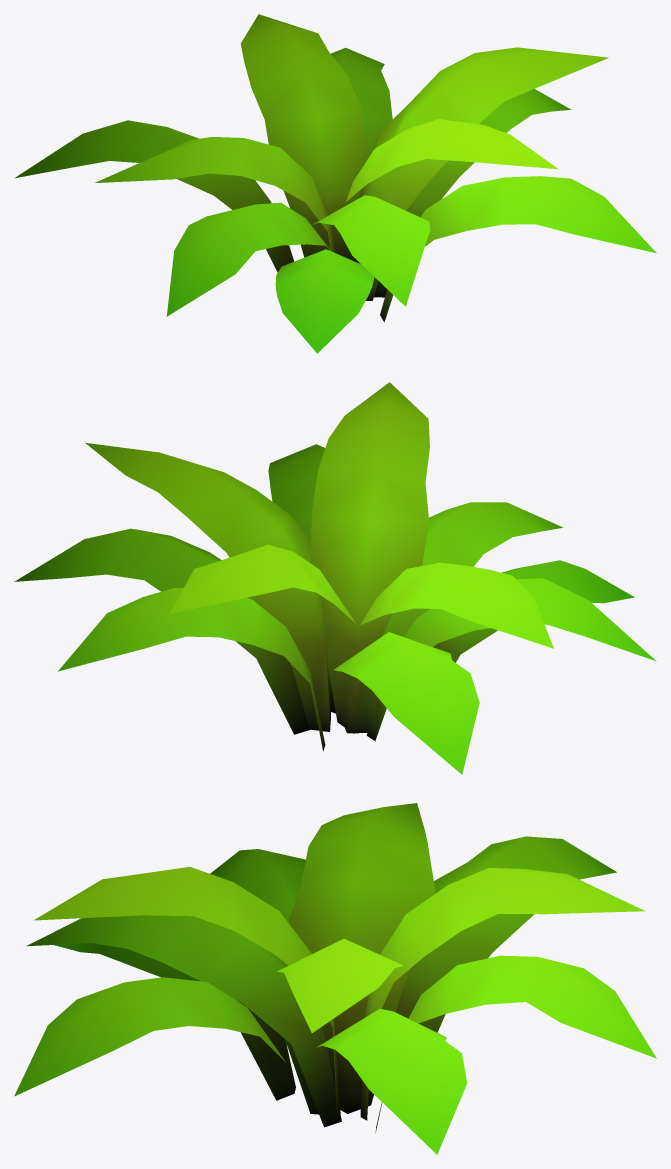
Rendered from trp_fern1.glb.
3 views of the same model, one above another, from view 1: azimuth 30°, elevation 25°; view 2: azimuth 150°, elevation 25°; view 3: azimuth 270°, elevation 25° (orthographic). The views are drawn at different scales.
Visible parts, largest first — view 1: SM_Env_Fern_01_LOD0; view 2: SM_Env_Fern_01_LOD0; view 3: SM_Env_Fern_01_LOD0.
Part boxes in pixels (x1,y1,x2,y2): SM_Env_Fern_01_LOD0: (14, 14, 656, 353); SM_Env_Fern_01_LOD0: (14, 382, 656, 774); SM_Env_Fern_01_LOD0: (14, 803, 656, 1154).
Size of what is drawn, in the model's own units: 2.63 by 1.16 by 2.42.
Materials: 1 (1 with a texture image).
